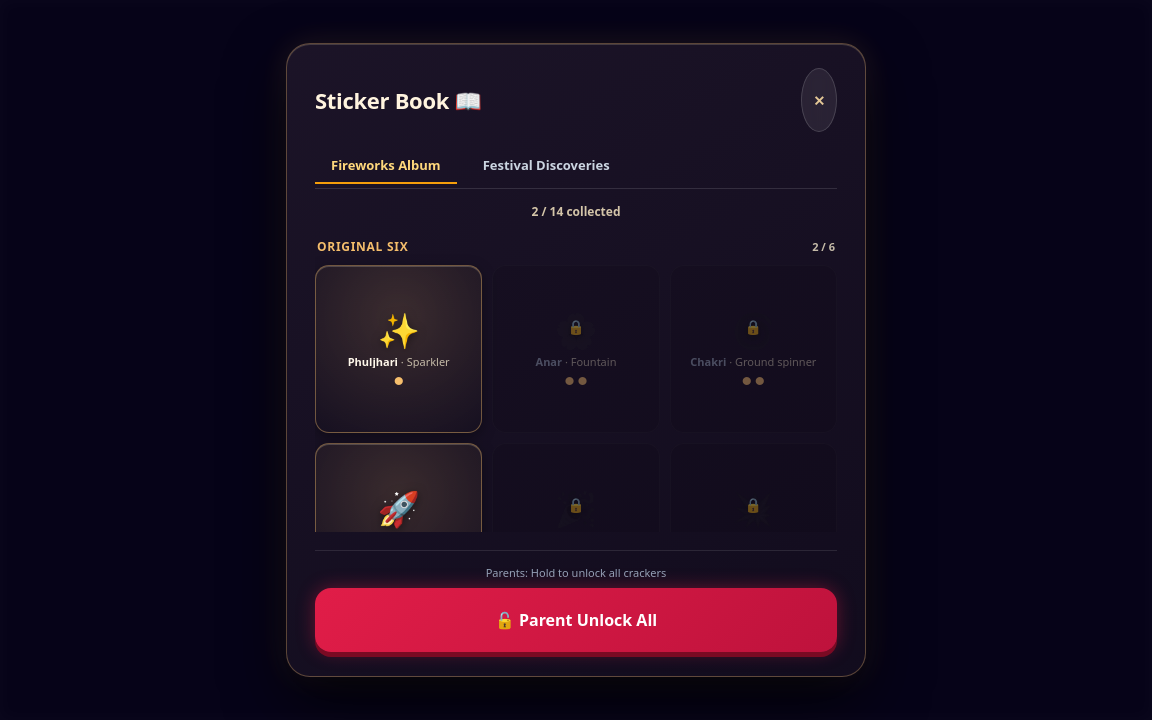
Test: DIW-032, DIW-033, DIW-034 — Discovery Album, Gentle Goals, and Result Summary › DIW-032: Gentle Discovery Goals › displays goals tab with the three timeless discoveries
Switch to goals tab
Click the tab "Festival Discoveries" at (546, 166), box [467,148,626,184]
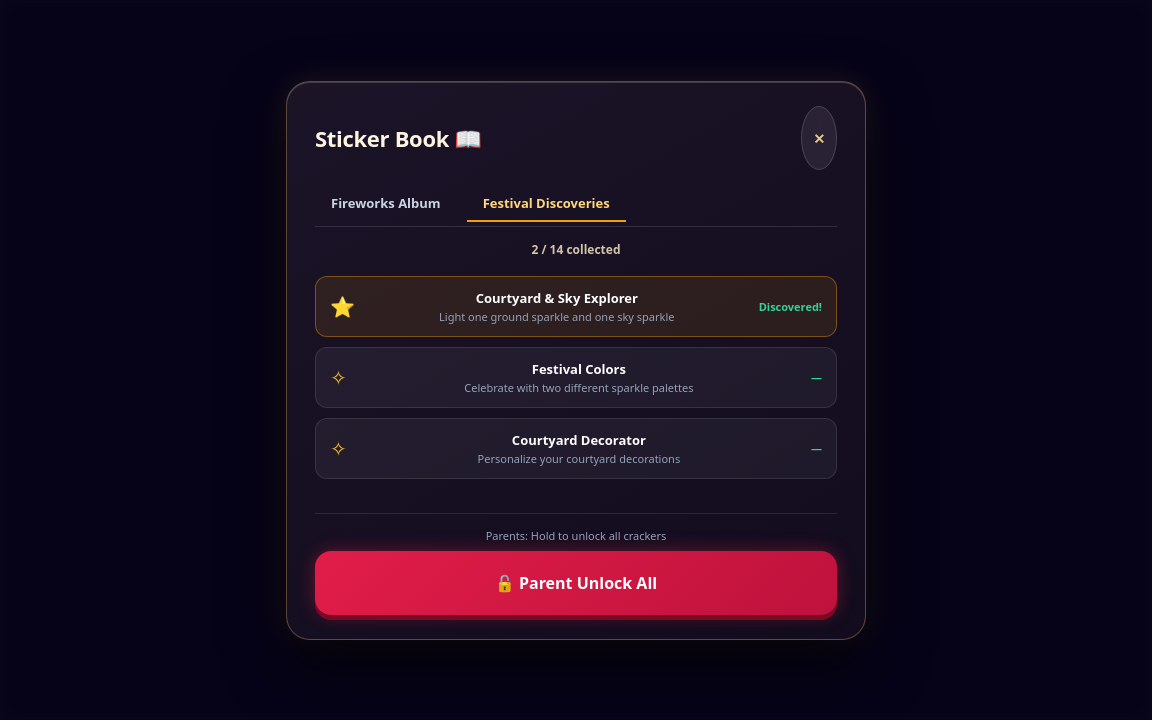
Expected: the heading "Courtyard & Sky Explorer" is shown, [476,288,638,306]
Expected: the heading "Festival Colors" is shown, [532,360,626,378]
Expected: the heading "Courtyard Decorator" is shown, [512,430,646,448]
